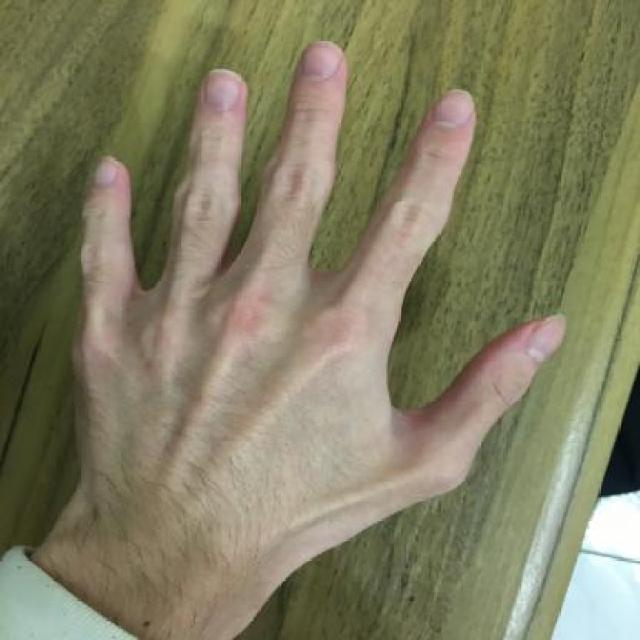bare_hand: (46, 21, 592, 604)
